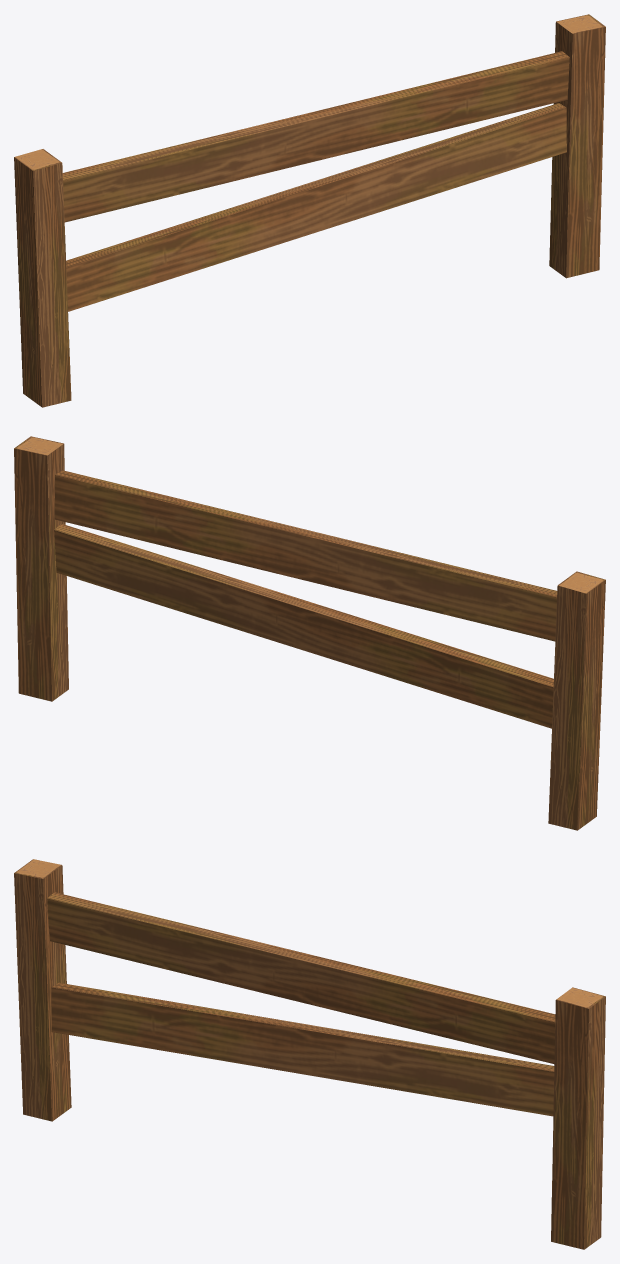
The model's file is Prop_WoodenFence_Single.glb.
The picture shows the model from 3 angles, top to bottom: view 1: azimuth 30°, elevation 25°; view 2: azimuth 150°, elevation 25°; view 3: azimuth 330°, elevation 25°; orthographic projection.
Visible parts, largest first — view 1: Prop_WoodenFence_Single; view 2: Prop_WoodenFence_Single; view 3: Prop_WoodenFence_Single.
Boxes of the visible parts, <box> form: Prop_WoodenFence_Single: <box>14,14,605,407</box>; Prop_WoodenFence_Single: <box>14,436,605,830</box>; Prop_WoodenFence_Single: <box>14,859,605,1249</box>.
Bounding box in the file's own units: 2.06 × 0.8381 × 0.1198.
Materials: 1 (1 with a texture image).
